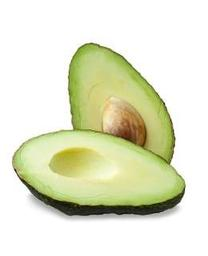avocado: (13, 129, 186, 216), (68, 44, 175, 171)
